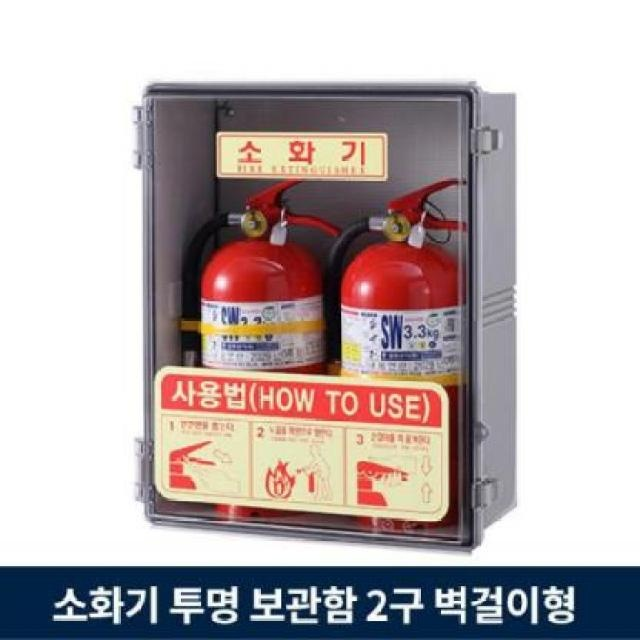fire extinguisher: (327, 178, 468, 530), (178, 178, 338, 377)
